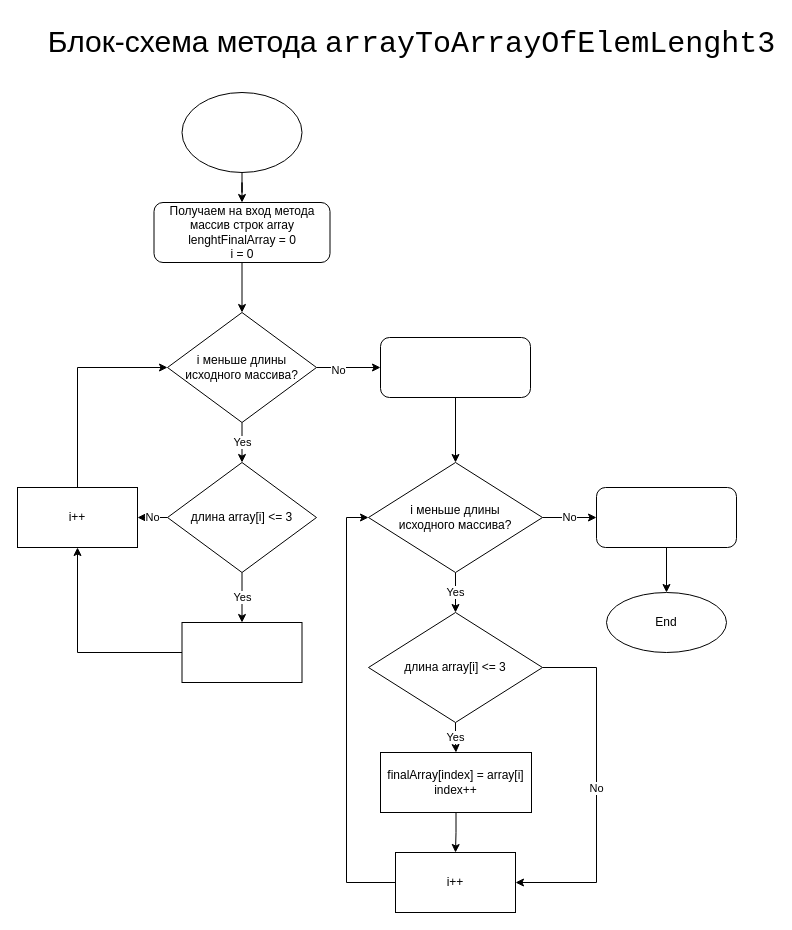
The diagram is 792 pixels wide and 930 high, and some of its shapes have lost their labels. The shapes that lost their labels are listed below. From the top down, each one's centre as x and y in pixels, then its label:
[241,132]: Begin
[455,367]: Создаем массив finalArray длиной lenghtFinalArray i = 0 index = 0
[666,517]: Возвращаем массив finalArray
[241,652]: lenghtFinalArray++
